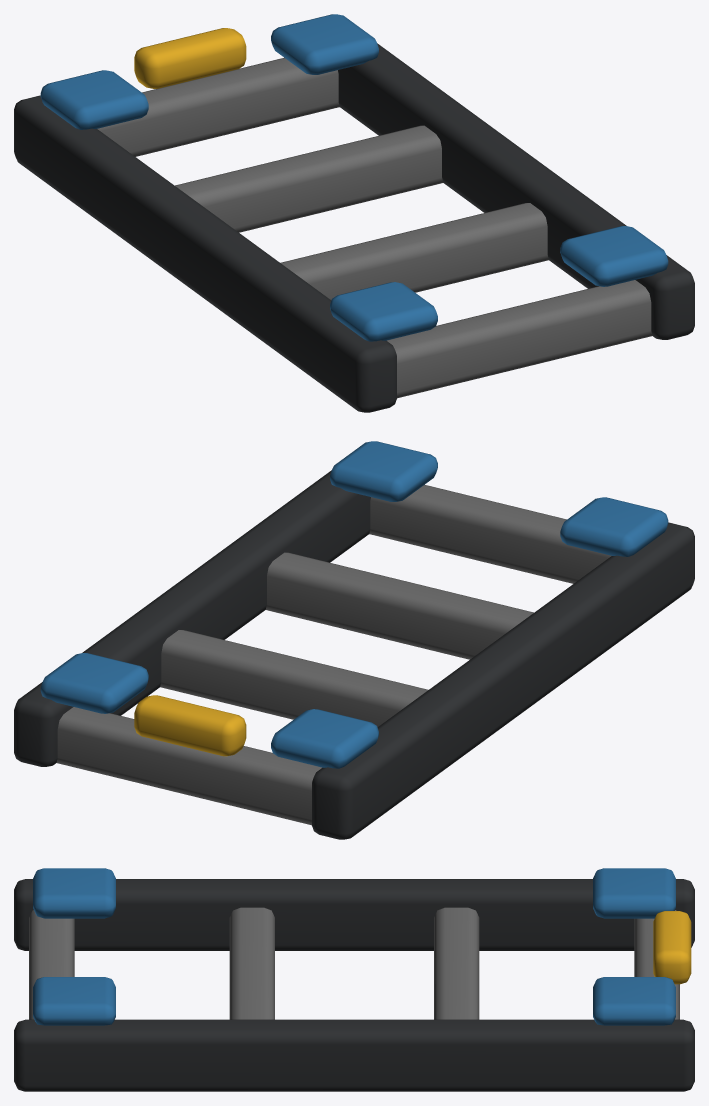
The model's file is chassis-frame.glb.
3 renders of one model, top to bottom at view 1: azimuth 30°, elevation 25°; view 2: azimuth 150°, elevation 25°; view 3: azimuth 270°, elevation 25°, orthographic. The views are drawn at different scales.
Visible parts, largest first — view 1: chassis-frame; view 2: chassis-frame; view 3: chassis-frame.
Part boxes in pixels (x1,y1,x2,y2): chassis-frame: (14,14,694,412); chassis-frame: (14,441,694,839); chassis-frame: (14,868,694,1091).
Bounding box in the file's own units: 1 × 0.25 × 1.8.
